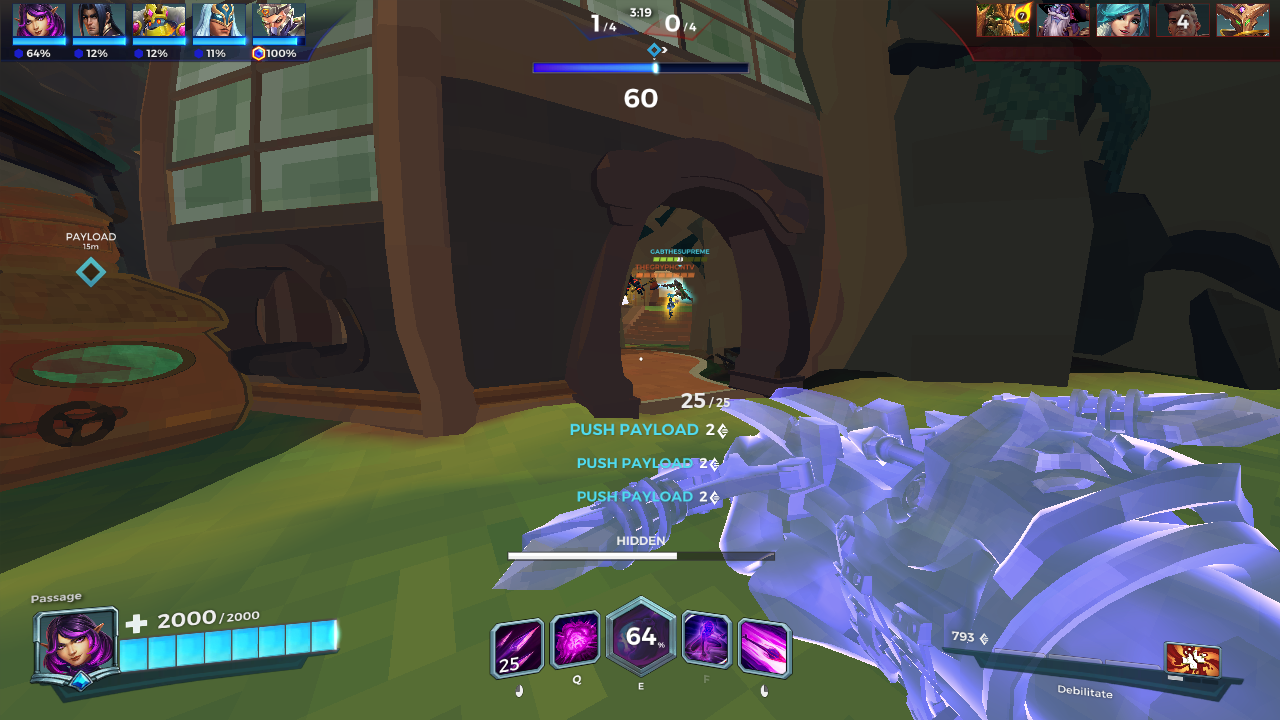model: (665, 290, 678, 321)
